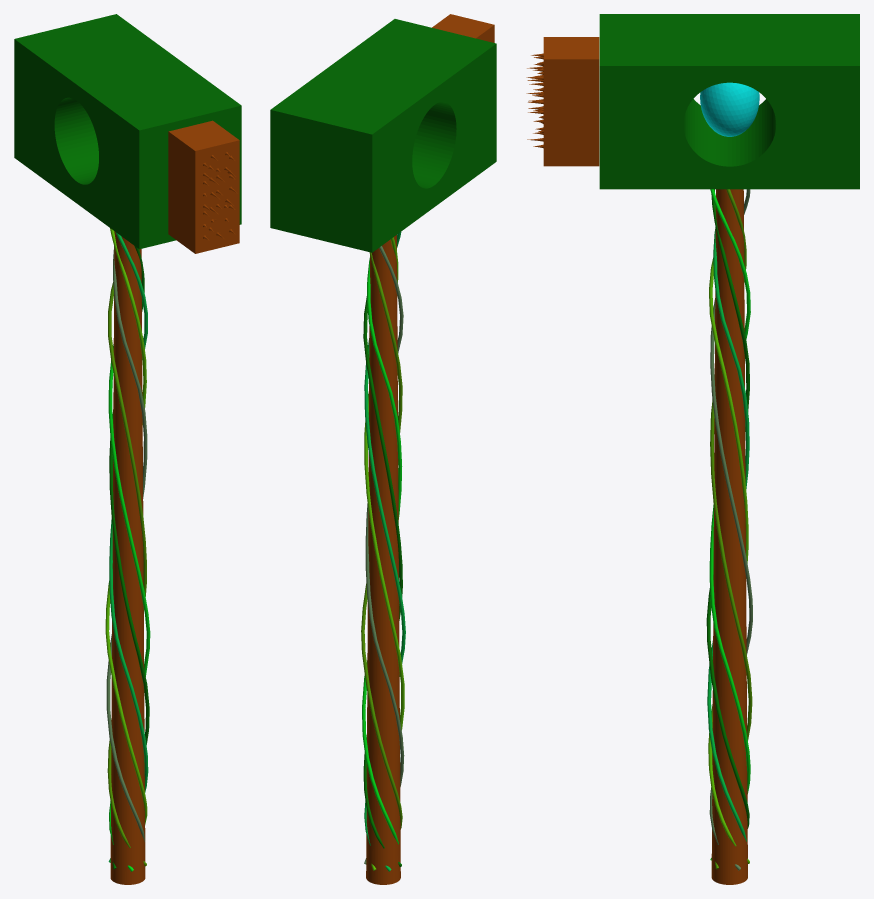
Rendered from MazoDePlanta.fbx.
3 views of the same model, side by side, from view 1: azimuth 30°, elevation 25°; view 2: azimuth 150°, elevation 25°; view 3: azimuth 270°, elevation 25° (orthographic). The views are drawn at different scales.
Parts seen in each view (by area): view 1: Cube.001, Cylinder, Cube, BezierCurve.001, BezierCurve, BezierCurve.002, BezierCurve.003, BezierCurve.005, BezierCurve.004; view 2: Cube.001, Cylinder, BezierCurve, BezierCurve.005, BezierCurve.004, BezierCurve.001, BezierCurve.003, BezierCurve.002, Cube; view 3: Cube.001, Cylinder, Cube, Icosphere, BezierCurve.003, BezierCurve.004, BezierCurve.005, BezierCurve, BezierCurve.002, BezierCurve.001.
Boxes of the visible parts, x1,y1,x2,y2 form: Cube.001: (14, 14, 241, 249); Cylinder: (110, 231, 145, 884); Cube: (168, 120, 239, 253); BezierCurve.001: (106, 246, 147, 841); BezierCurve: (107, 282, 146, 866); BezierCurve.002: (105, 228, 147, 824); BezierCurve.003: (108, 232, 148, 862); BezierCurve.005: (108, 344, 150, 871); BezierCurve.004: (109, 246, 149, 869); Cube.001: (270, 19, 496, 252); Cylinder: (366, 235, 400, 884); BezierCurve: (361, 252, 402, 829); BezierCurve.005: (362, 258, 402, 844); BezierCurve.004: (363, 296, 402, 867); BezierCurve.001: (364, 246, 404, 864); BezierCurve.003: (364, 232, 405, 871); BezierCurve.002: (364, 237, 404, 870); Cube: (432, 14, 494, 42); Cube.001: (599, 14, 859, 189); Cylinder: (711, 189, 747, 884); Cube: (526, 37, 599, 166); Icosphere: (700, 82, 759, 136); BezierCurve.003: (707, 227, 749, 841); BezierCurve.004: (706, 189, 749, 828); BezierCurve.005: (709, 189, 750, 860); BezierCurve: (710, 189, 752, 869); BezierCurve.002: (708, 258, 749, 863); BezierCurve.001: (709, 189, 752, 870).
Bounding box in the file's own units: 553 × 4159 × 1507.
